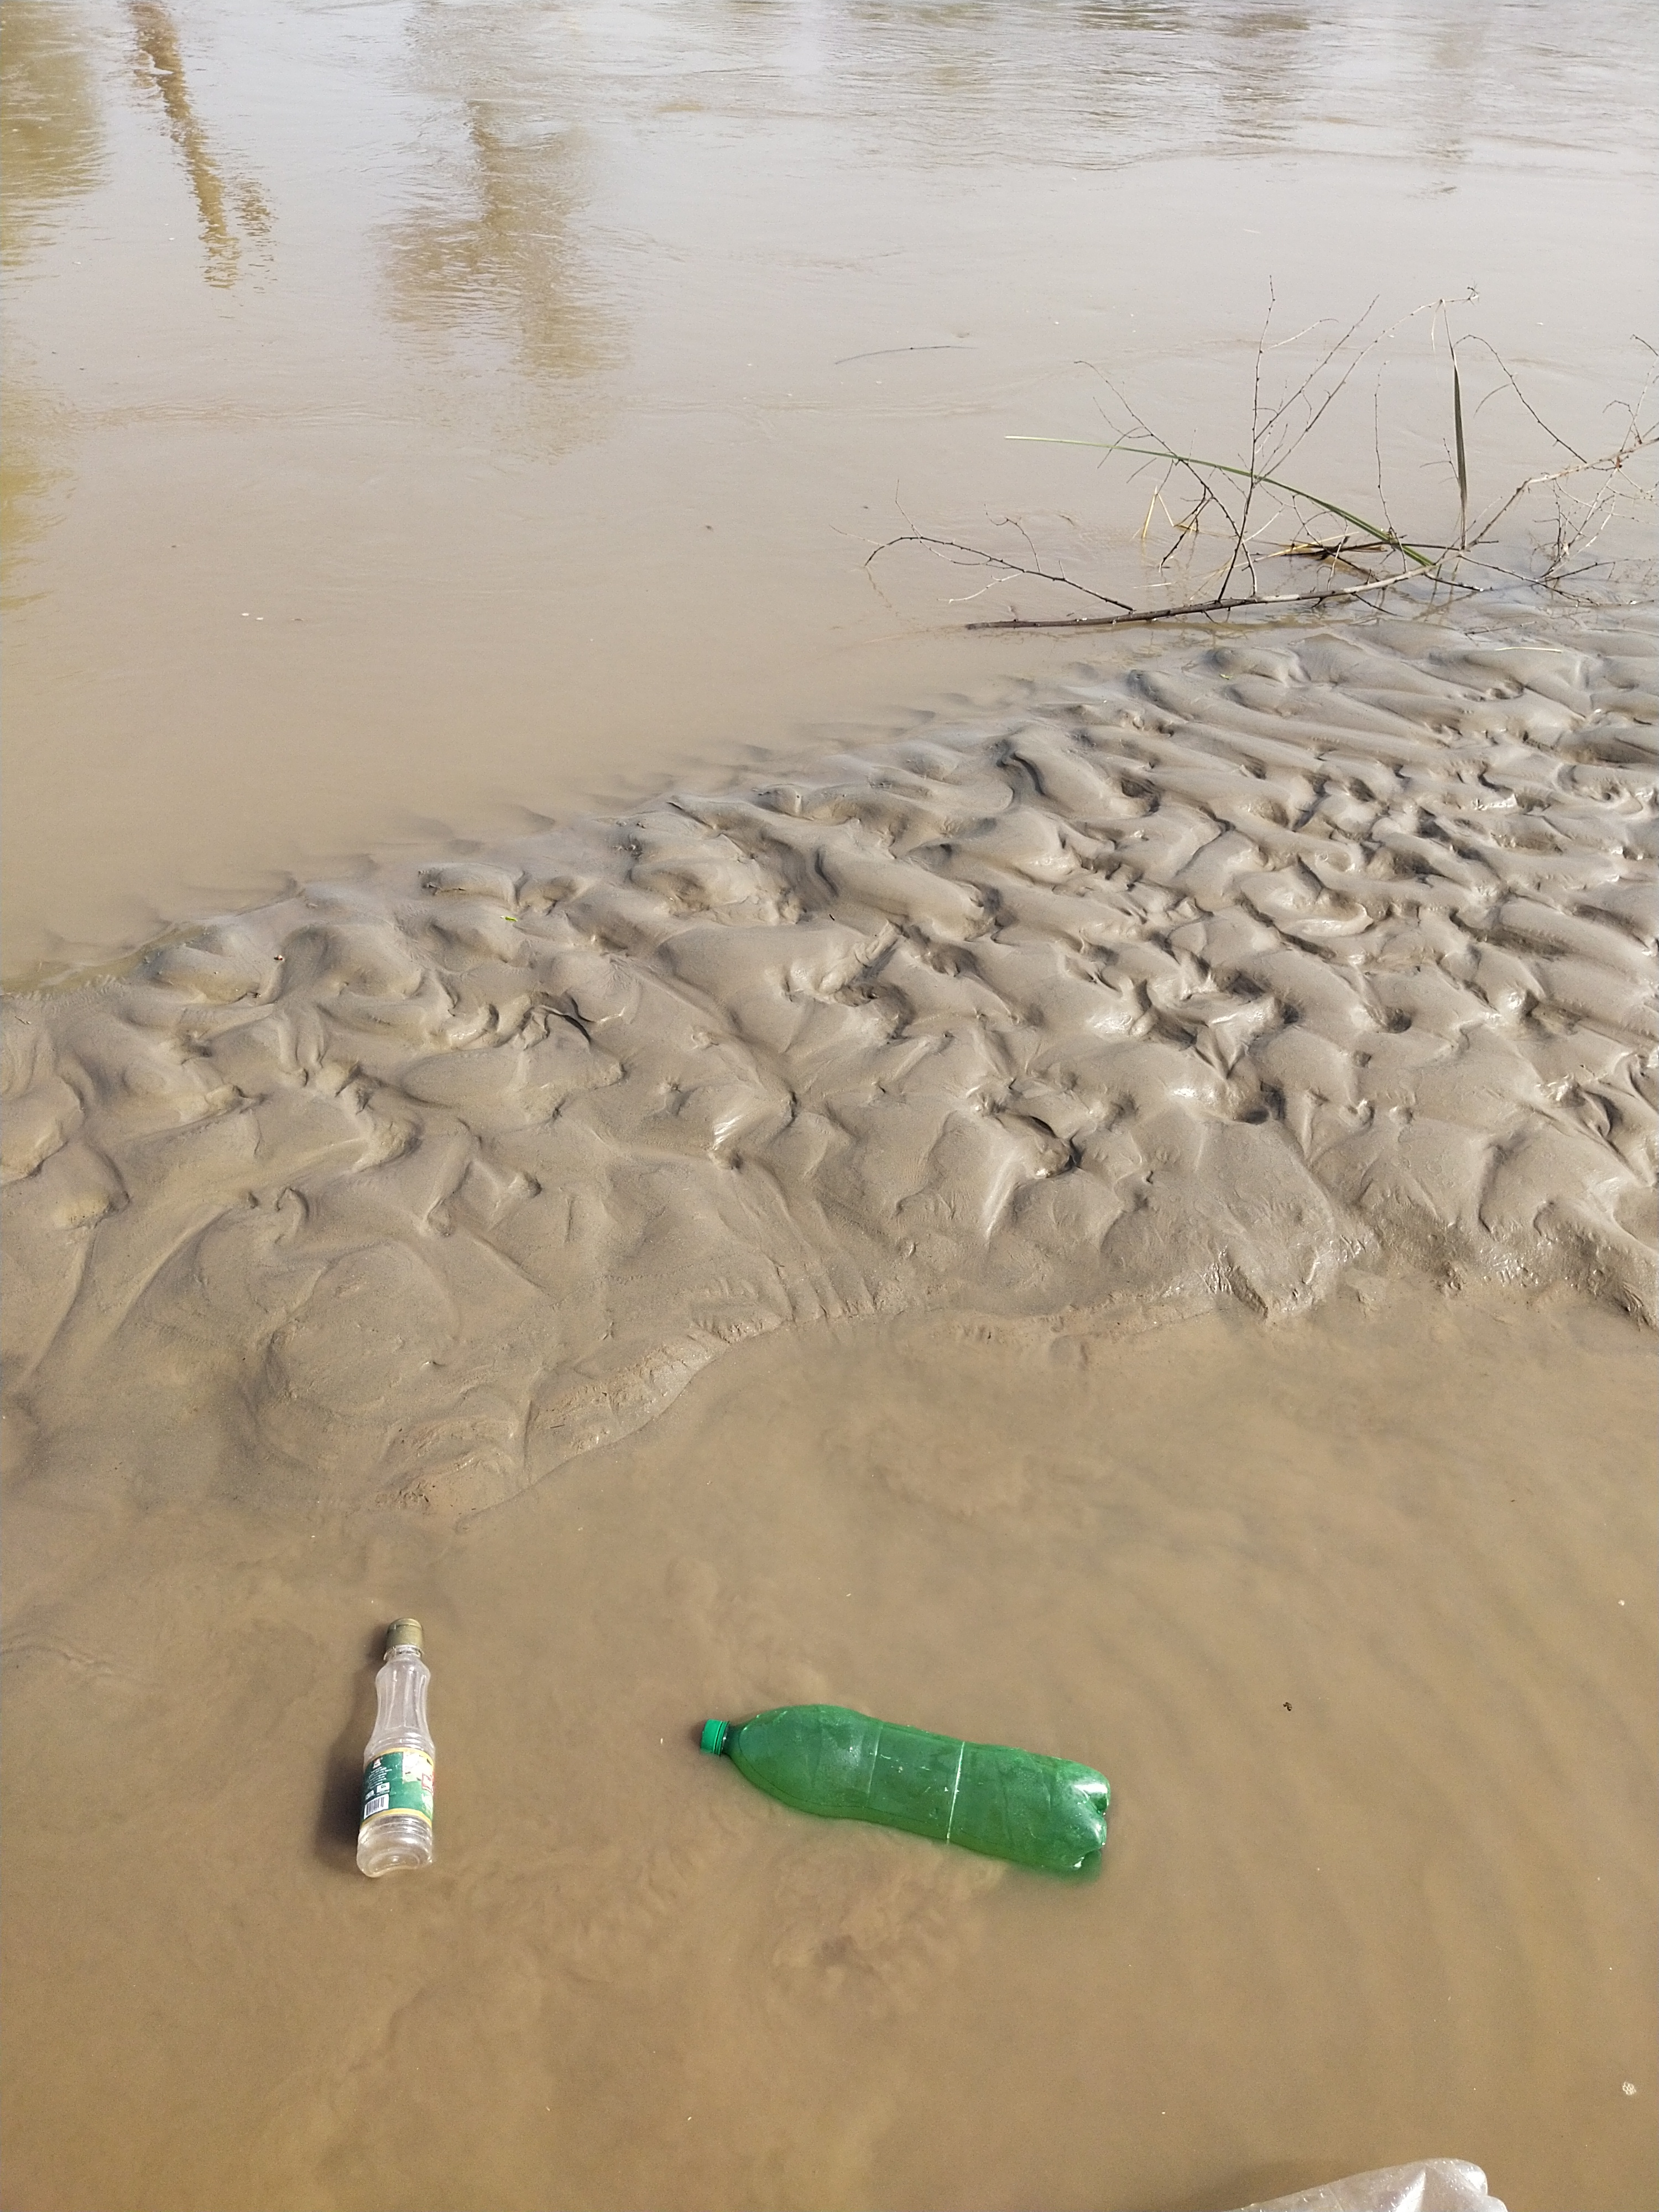Plastic Bottle: (701, 1703, 1110, 1872), (356, 1616, 434, 1878), (1232, 2160, 1509, 2210)
